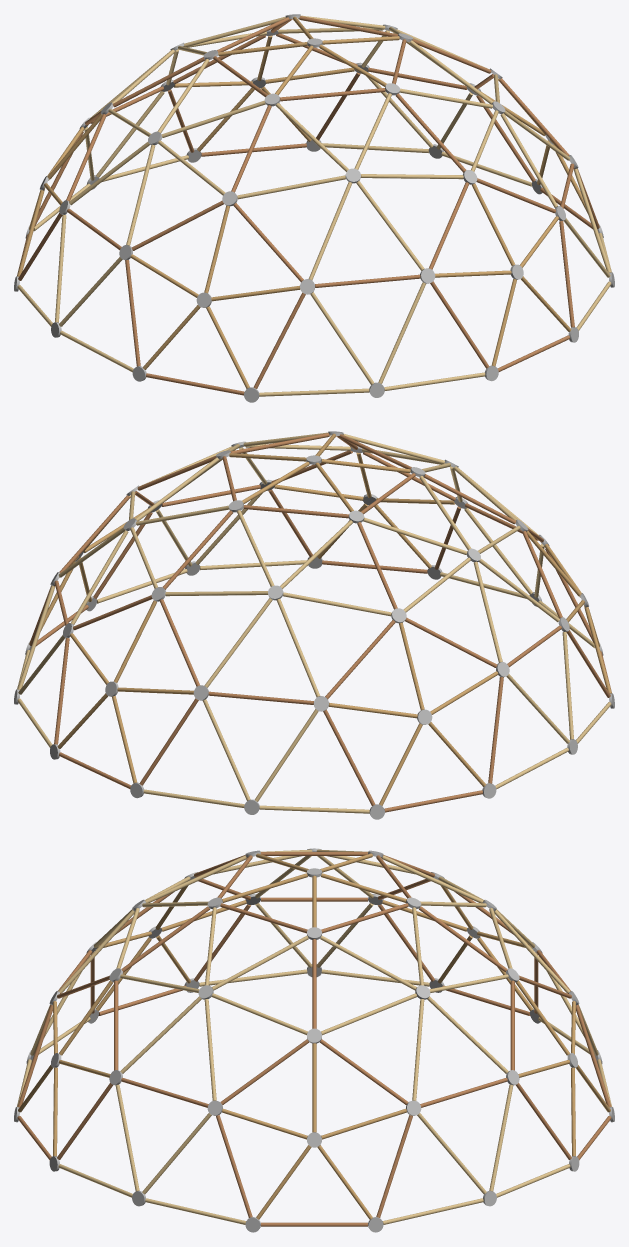
The model's file is BarbourSmith_Parametric_Geodesic_Dome.glb.
3 renders of one model, top to bottom at view 1: azimuth 30°, elevation 25°; view 2: azimuth 150°, elevation 25°; view 3: azimuth 270°, elevation 25°, orthographic.
Visible parts, largest first — view 1: no part large enough to name; view 2: no part large enough to name; view 3: part-119.
Boxes of the visible parts, x1,y1,x2,y2 form: part-119: (261, 1222, 367, 1226).
Size of the model in its own units: 5903 by 2577 by 5936.
